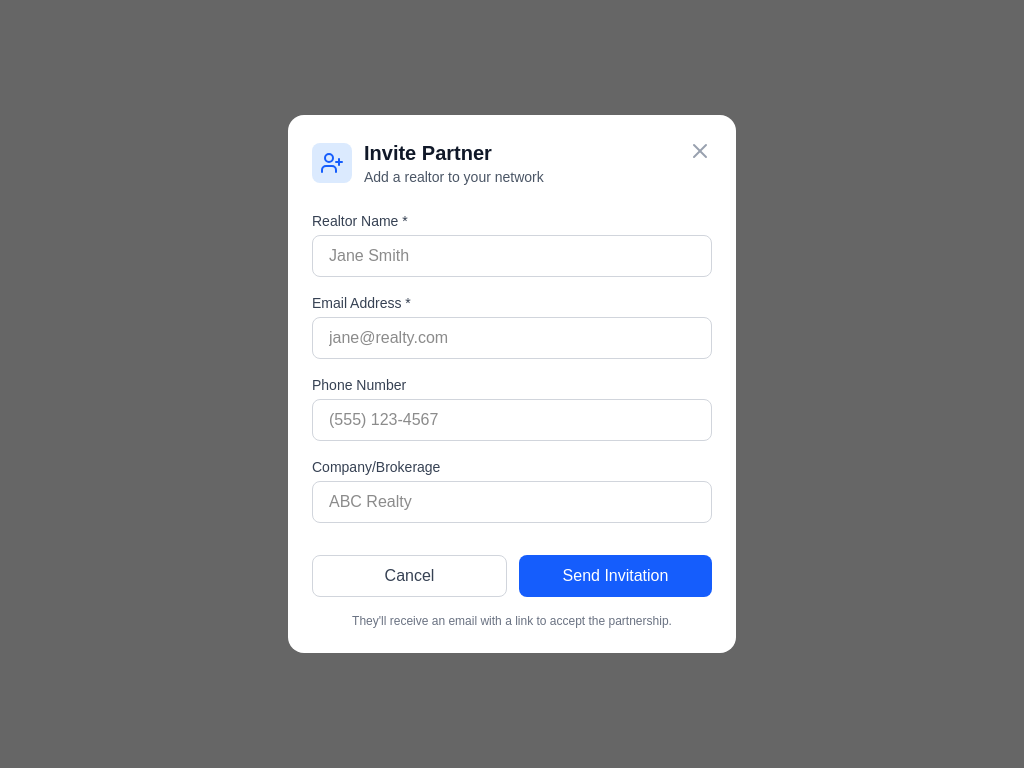
Test case: InvitePartnerModal › Form submission › shows loading state during submission
Type "John Realtor" into the field with placeholder "Jane Smith" at (512, 256), box 312,235 -> 712,277
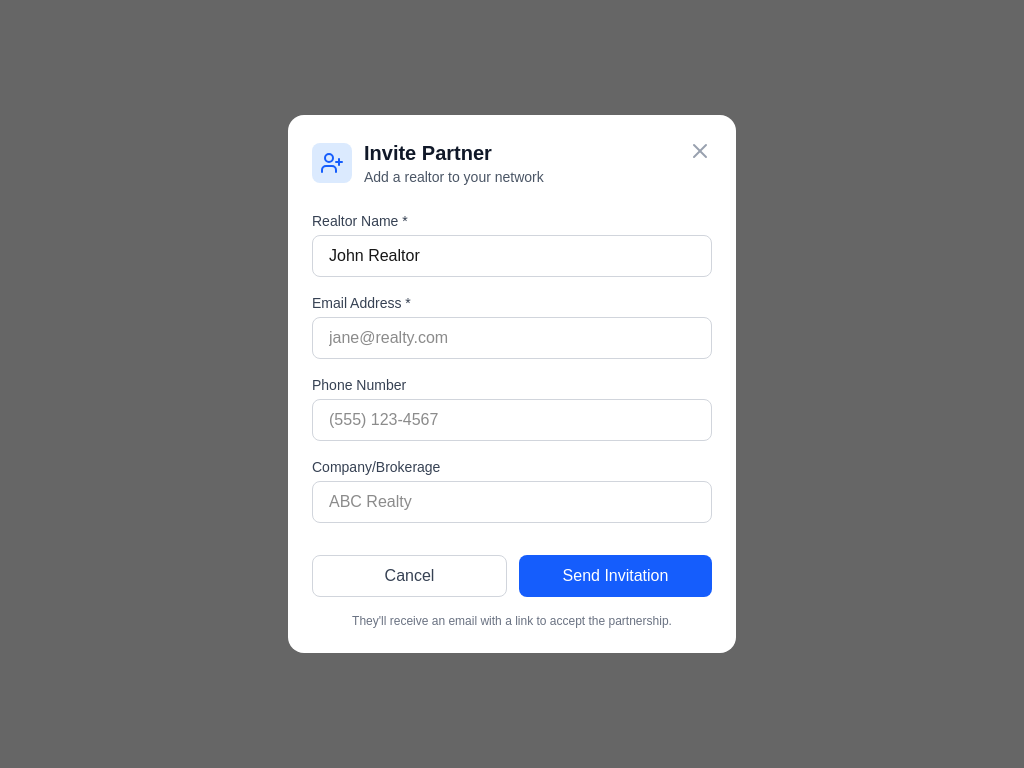
Type "john@realty.com" into the field with placeholder "jane@realty.com" at (512, 338), box 312,317 -> 712,359
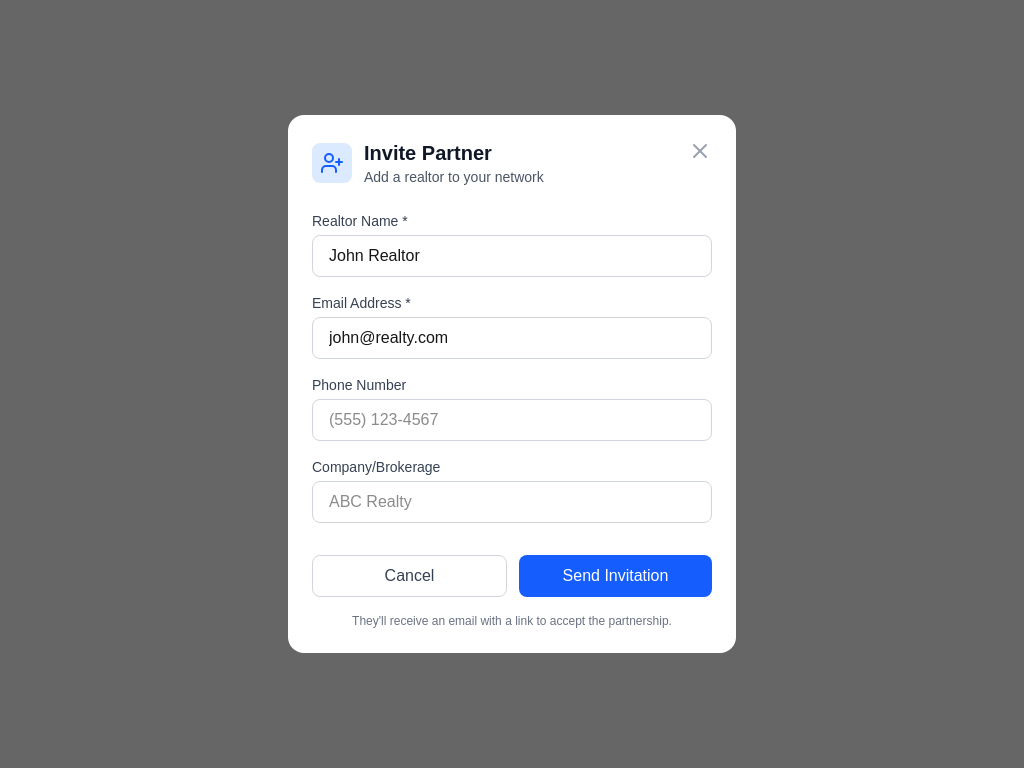
Click the button "Send Invitation" at (616, 576), box 519,555 -> 712,597
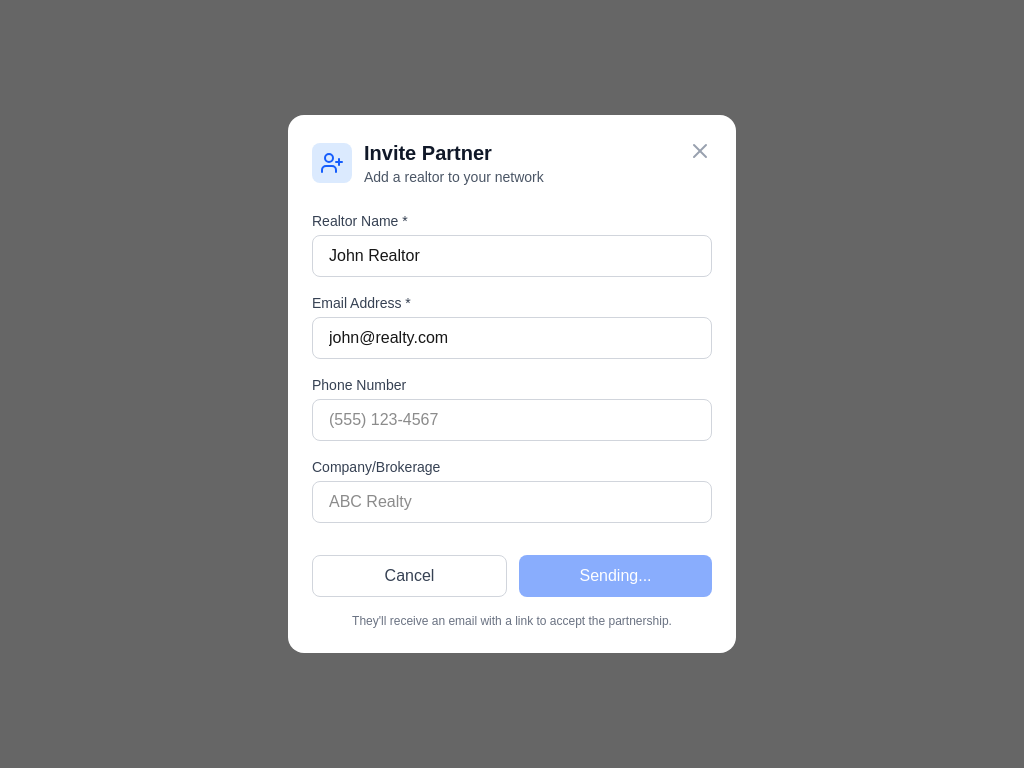
Now the button "Sending..." is shown, box 519,555 -> 712,597
